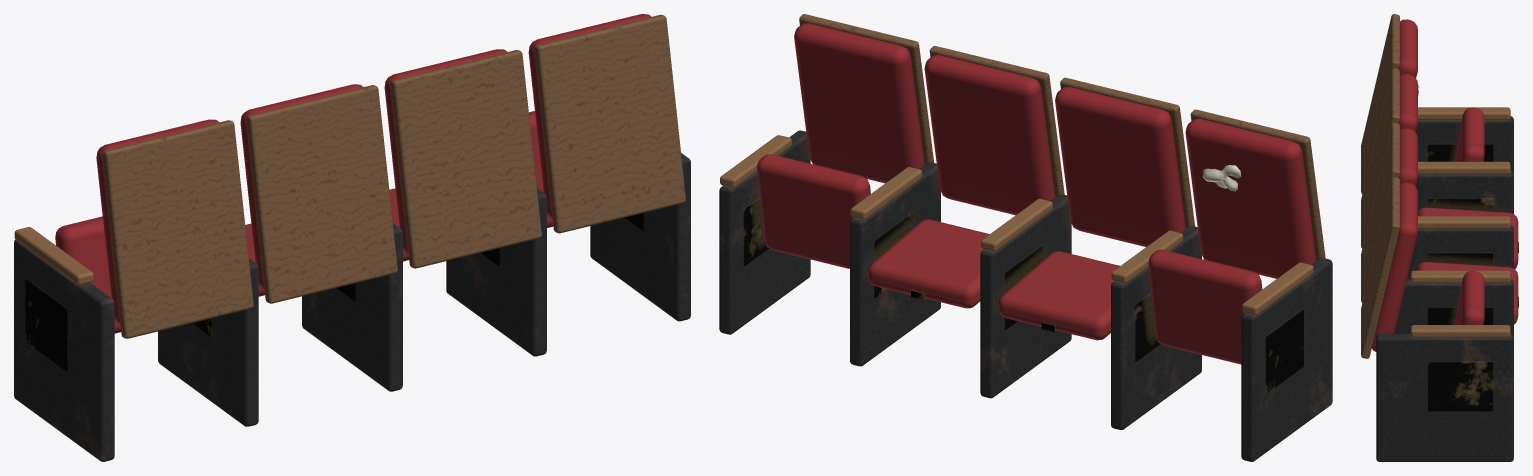
File: butacas.glb
3 renders of one model, left to right at view 1: azimuth 30°, elevation 25°; view 2: azimuth 150°, elevation 25°; view 3: azimuth 270°, elevation 25°, orthographic. The views are drawn at different scales.
Visible parts, largest first — view 1: butacas; view 2: butacas; view 3: butacas.
Boxes of the visible parts, x1,y1,x2,y2 form: butacas: (14,14,690,461); butacas: (719,14,1332,461); butacas: (1361,14,1518,461).
Bounding box in the file's own units: 2.39 × 1.15 × 0.7103.
1 material, 1 textured.
